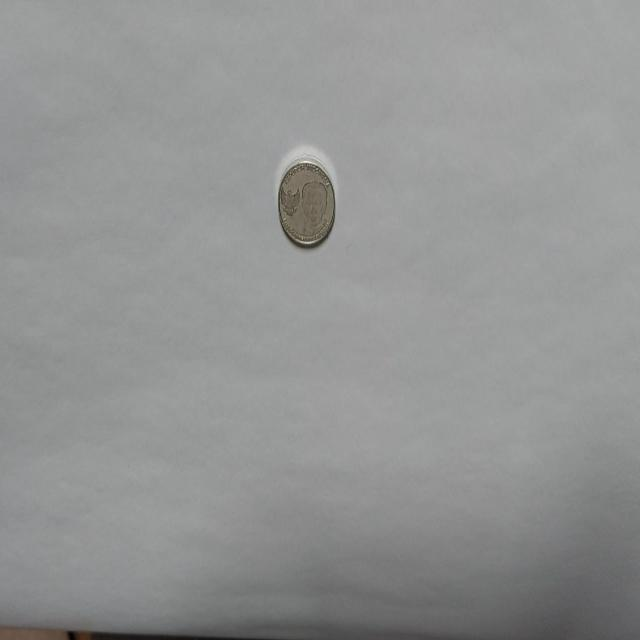seratus rupiah: (276, 156, 336, 248)
